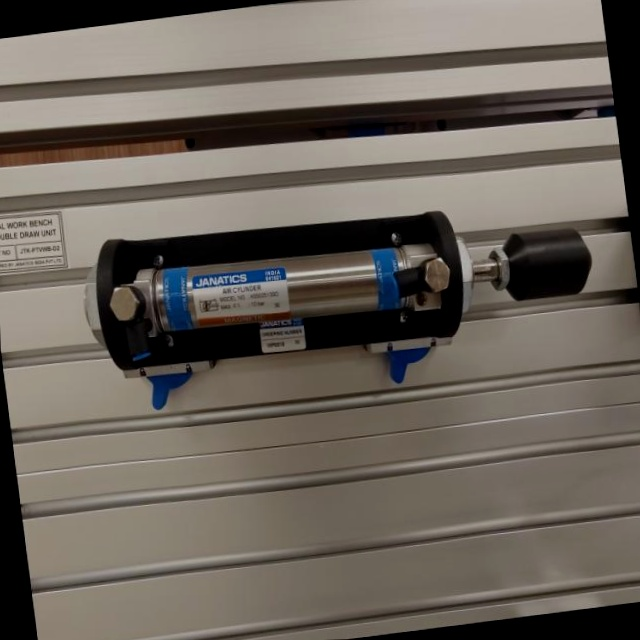double acting pneumatic cylinder: (70, 167, 614, 433)
